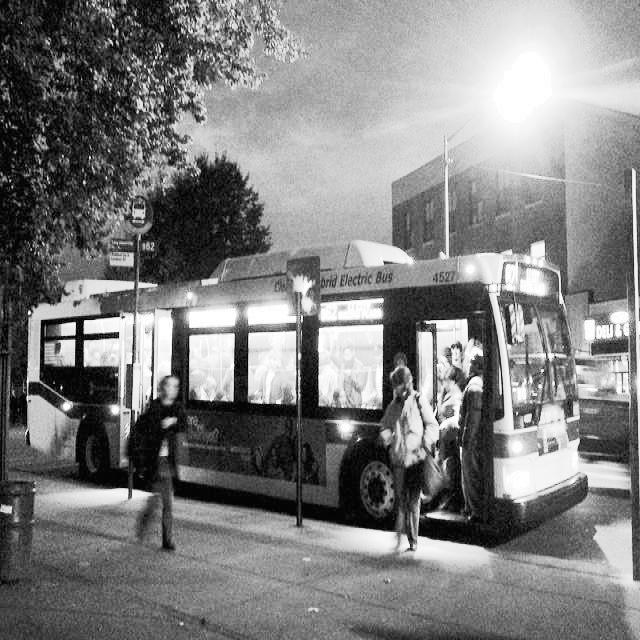Bus: (19, 250, 625, 558)
